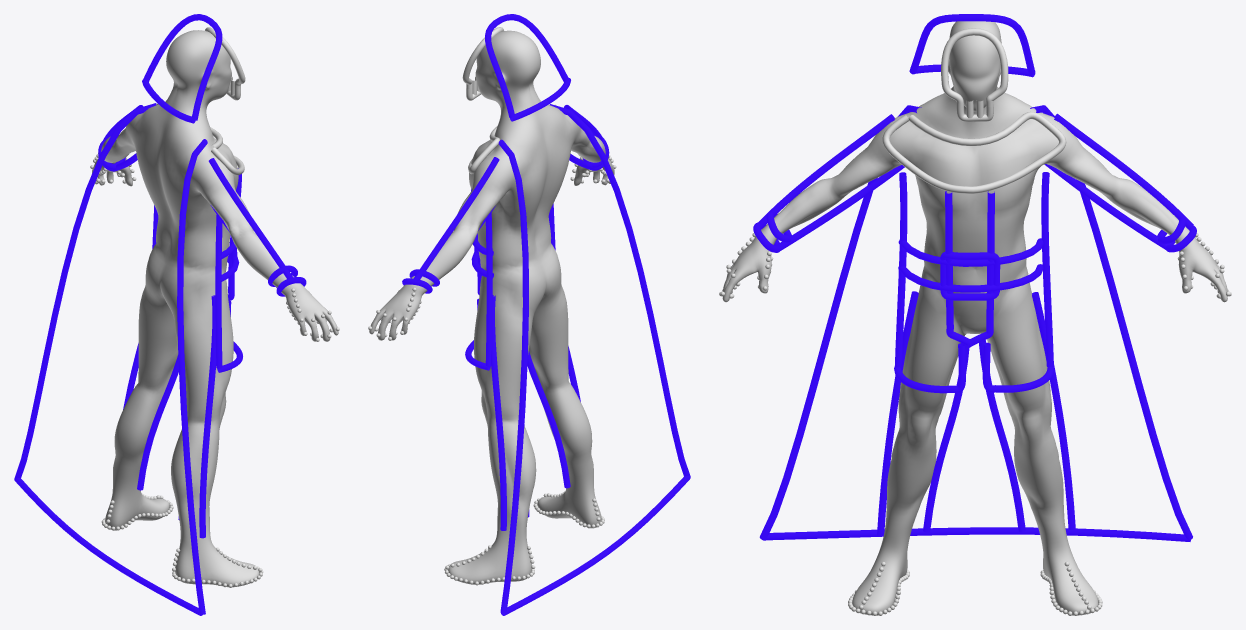
Rendered from boss.glb.
The picture shows the model from 3 angles, left to right: view 1: azimuth 30°, elevation 25°; view 2: azimuth 150°, elevation 25°; view 3: azimuth 270°, elevation 25°; orthographic projection. The views are drawn at different scales.
Parts seen in each view (by area): view 1: Human, right_cape, left_cape, bottom_cape, outer_right_pants, top_hat, outer_right_weist, outer_right_arm, inner_left_pants, mask, scarf, bottom_hat; view 2: Human, left_cape, right_cape, bottom_cape, outer_left_pants, top_hat, outer_left_weist, outer_left_arm, inner_right_pants, mask, bottom_hat; view 3: Human, scarf, right_cape, left_cape, bottom_cape, belt, mask, outer_right_pants, outer_left_pants, outer_left_weist, top_hat, outer_right_weist (+11 smaller).
Boxes of the visible parts, x1,y1,x2,y2 form: Human: (92, 30, 338, 587); right_cape: (177, 139, 207, 615); left_cape: (14, 103, 156, 478); bottom_cape: (14, 478, 202, 615); outer_right_pants: (199, 295, 216, 538); top_hat: (143, 14, 222, 120); outer_right_weist: (215, 214, 222, 368); outer_right_arm: (208, 158, 292, 279); inner_left_pants: (137, 355, 178, 490); mask: (205, 27, 245, 100); scarf: (156, 103, 244, 175); bottom_hat: (142, 80, 195, 123); Human: (369, 30, 614, 584); left_cape: (498, 139, 528, 612); right_cape: (549, 104, 690, 477); bottom_cape: (501, 476, 690, 615); outer_left_pants: (491, 295, 506, 530); top_hat: (485, 14, 568, 117); outer_left_weist: (485, 213, 492, 366); outer_left_arm: (413, 157, 499, 280); inner_right_pants: (527, 351, 570, 488); mask: (462, 27, 503, 100); bottom_hat: (510, 77, 570, 121); Human: (722, 21, 1227, 615); scarf: (882, 112, 1066, 193); right_cape: (759, 105, 921, 540); left_cape: (1030, 105, 1192, 540); bottom_cape: (766, 527, 1190, 541); belt: (898, 238, 1043, 292); mask: (941, 28, 1008, 121); outer_right_pants: (877, 291, 918, 536); outer_left_pants: (1032, 292, 1075, 529); outer_left_weist: (1041, 172, 1053, 367); top_hat: (909, 14, 1035, 75); outer_right_weist: (894, 172, 907, 367).
Bounding box in the file's own units: 0.5119 × 1.82 × 1.4.
